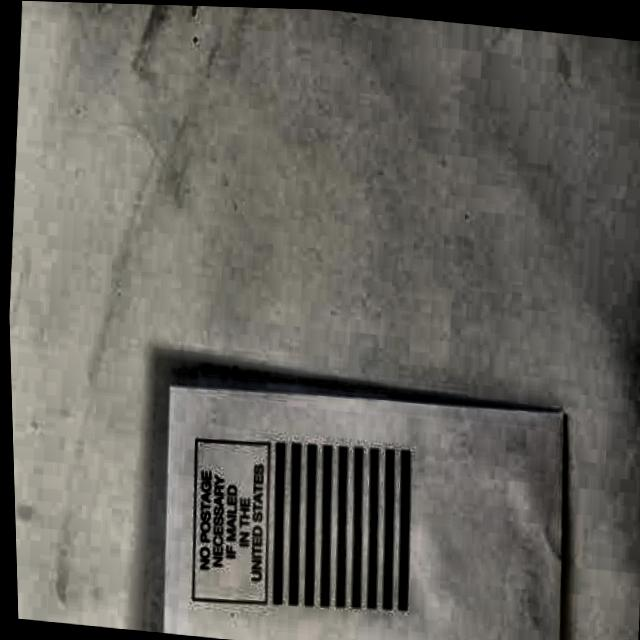Paper: (133, 351, 586, 640)
